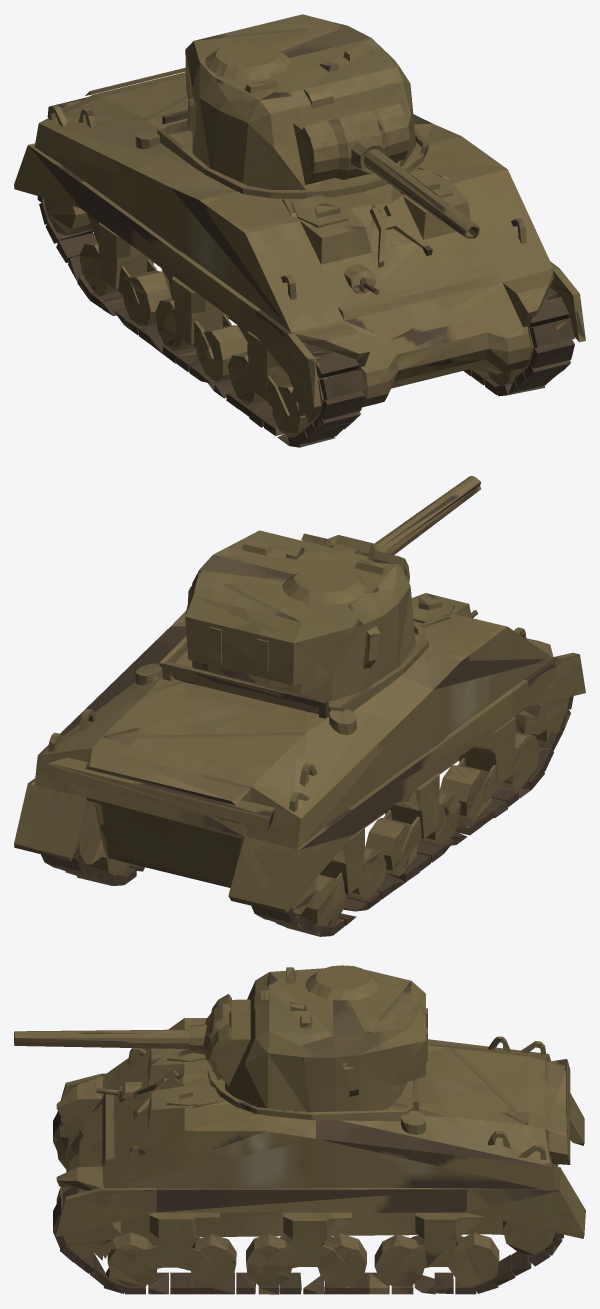
The model's file is sicily_british_armor_0.glb.
3 views of the same model, one above another, from view 1: azimuth 30°, elevation 25°; view 2: azimuth 150°, elevation 25°; view 3: azimuth 270°, elevation 25° (orthographic). The views are drawn at different scales.
Parts seen in each view (by area): view 1: geometry_0; view 2: geometry_0; view 3: geometry_0.
Part boxes in pixels (x1=…): geometry_0: x1=14, y1=14, x2=585, y2=447; geometry_0: x1=14, y1=476, x2=585, y2=936; geometry_0: x1=14, y1=965, x2=585, y2=1294.
Size of the model in its own units: 0.5398 by 0.5346 by 1.12.
1 material, 1 textured.
